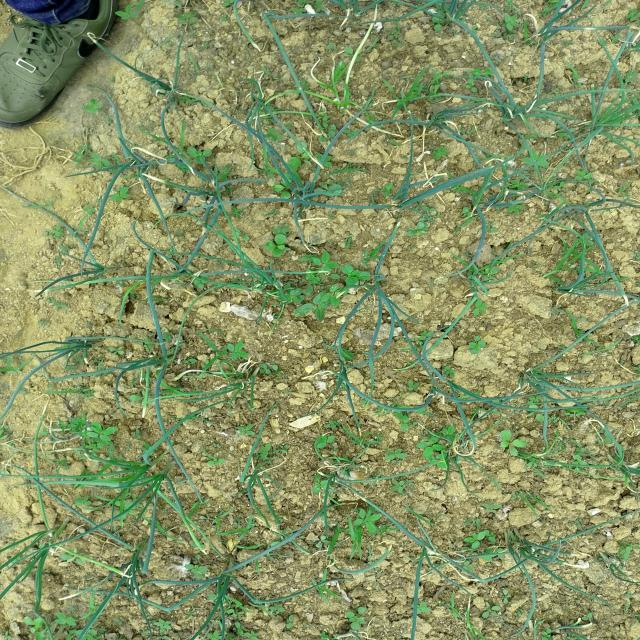Spring Onion: (99, 123, 200, 204), (168, 544, 290, 607), (484, 503, 561, 593), (4, 510, 86, 588), (307, 82, 391, 158), (318, 252, 397, 332), (120, 234, 214, 301), (434, 238, 514, 314), (98, 444, 200, 503), (395, 364, 501, 420), (17, 328, 97, 396), (475, 63, 542, 143), (263, 161, 330, 240), (238, 251, 315, 318), (110, 336, 181, 405), (91, 543, 157, 610), (570, 96, 640, 159), (460, 164, 548, 213), (411, 426, 487, 482), (400, 527, 460, 597), (302, 442, 366, 502), (524, 334, 575, 409), (317, 337, 374, 403), (138, 67, 208, 118), (206, 353, 274, 405), (422, 99, 469, 174), (8, 457, 77, 502), (212, 452, 264, 508), (27, 267, 84, 306), (542, 266, 602, 302), (602, 439, 640, 486)
